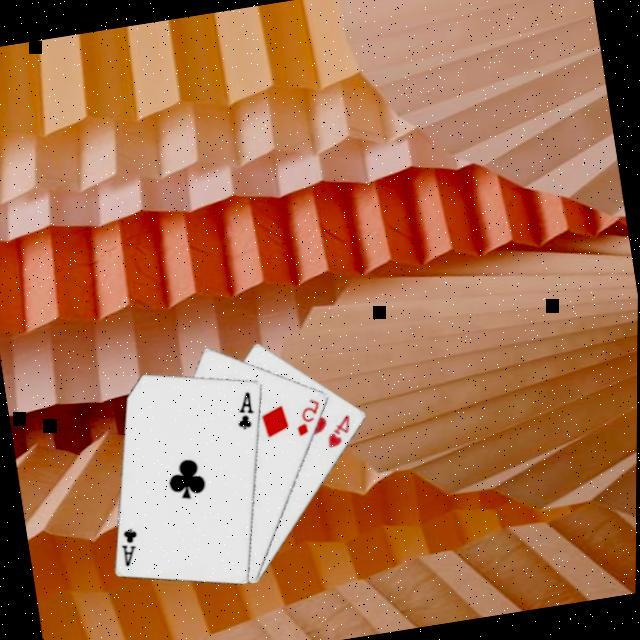4H: (319, 409, 356, 451)
5D: (288, 394, 326, 439)
AC: (228, 387, 258, 432), (115, 523, 144, 569)
